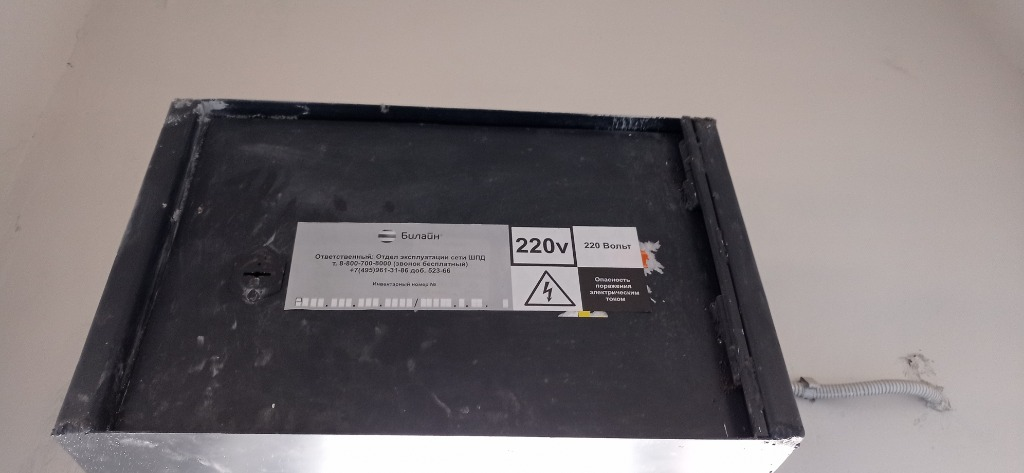e2-6u: (46, 89, 813, 470)
